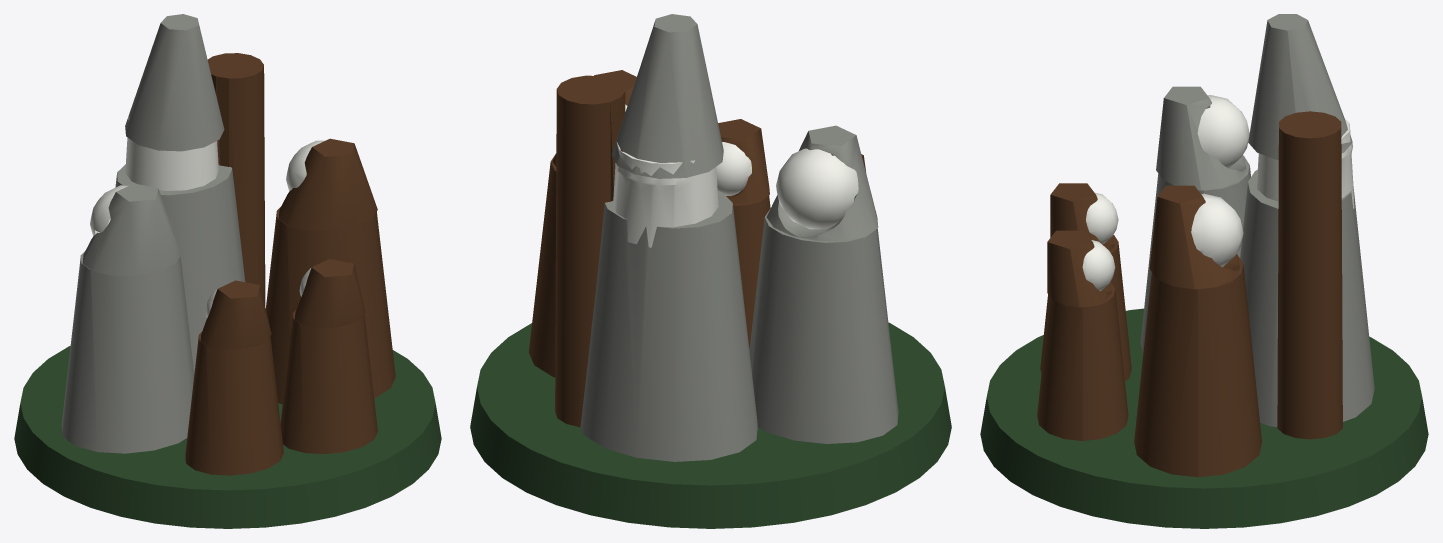
Rendered from gefaehrten.glb.
The picture shows the model from 3 angles, left to right: view 1: azimuth 30°, elevation 25°; view 2: azimuth 150°, elevation 25°; view 3: azimuth 270°, elevation 25°; orthographic projection. The views are drawn at different scales.
Visible parts, largest first — view 1: gefaehrten; view 2: gefaehrten; view 3: gefaehrten.
Boxes of the visible parts, bbox=[...] form: gefaehrten: bbox=[14, 14, 441, 528]; gefaehrten: bbox=[470, 14, 951, 528]; gefaehrten: bbox=[980, 14, 1428, 528].
Size of the model in its own units: 17.5 by 17.59 by 17.5.
